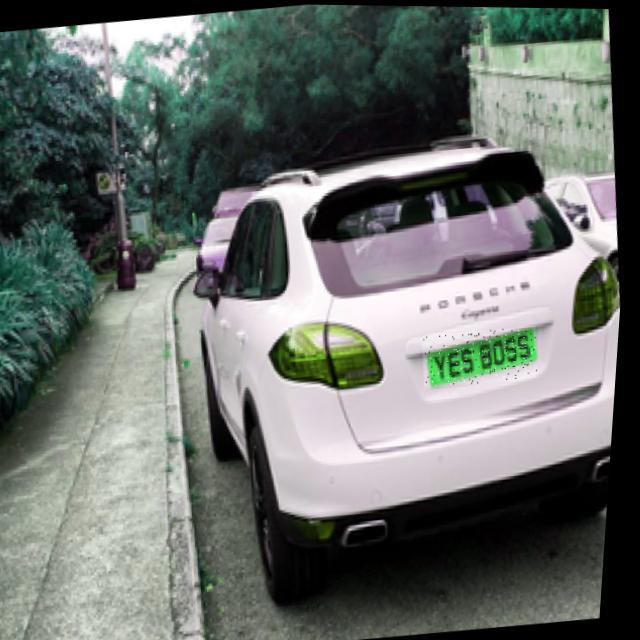license_plate: (424, 323, 545, 387)
